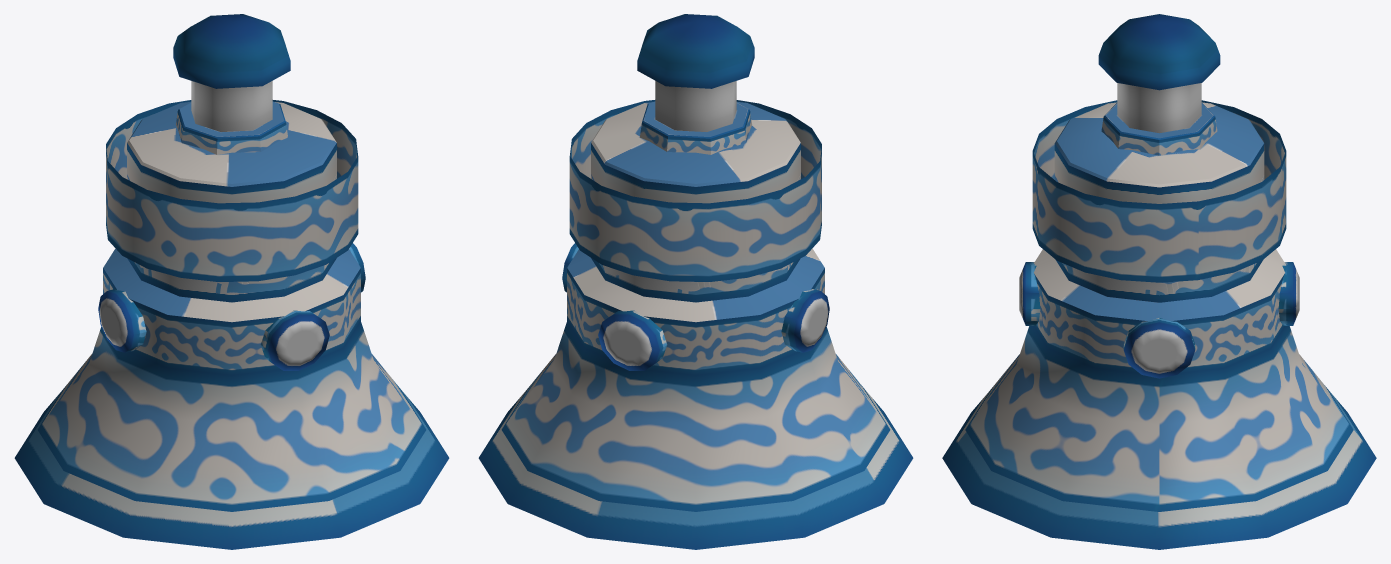
File: S_Tower_01.fbx
3 views of the same model, side by side, from view 1: azimuth 30°, elevation 25°; view 2: azimuth 150°, elevation 25°; view 3: azimuth 270°, elevation 25° (orthographic).
Parts seen in each view (by area): view 1: S_Tower_01; view 2: S_Tower_01; view 3: S_Tower_01.
Part boxes in pixels (left/top/right/bottom): S_Tower_01: left=14, top=14, right=449, bottom=549; S_Tower_01: left=478, top=14, right=913, bottom=549; S_Tower_01: left=942, top=14, right=1376, bottom=549.
Bounding box in the file's own units: 698 × 772 × 698.
1 material, 1 textured.
